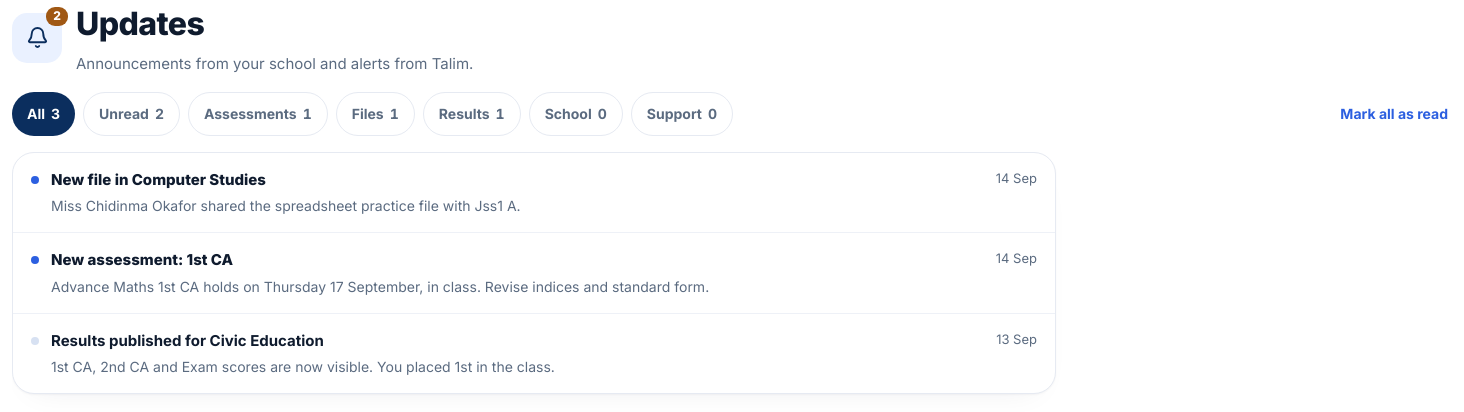
Test case: Updates screen › says when a filter has nothing
Check: the text "New file in Computer Studies" is shown, box x1=51 y1=168 x2=329 y2=188
What coordinates should you click on to do the following:
click the button "School 0"
I would click on:
 (576, 114)
Its box is x1=529 y1=92 x2=623 y2=136.
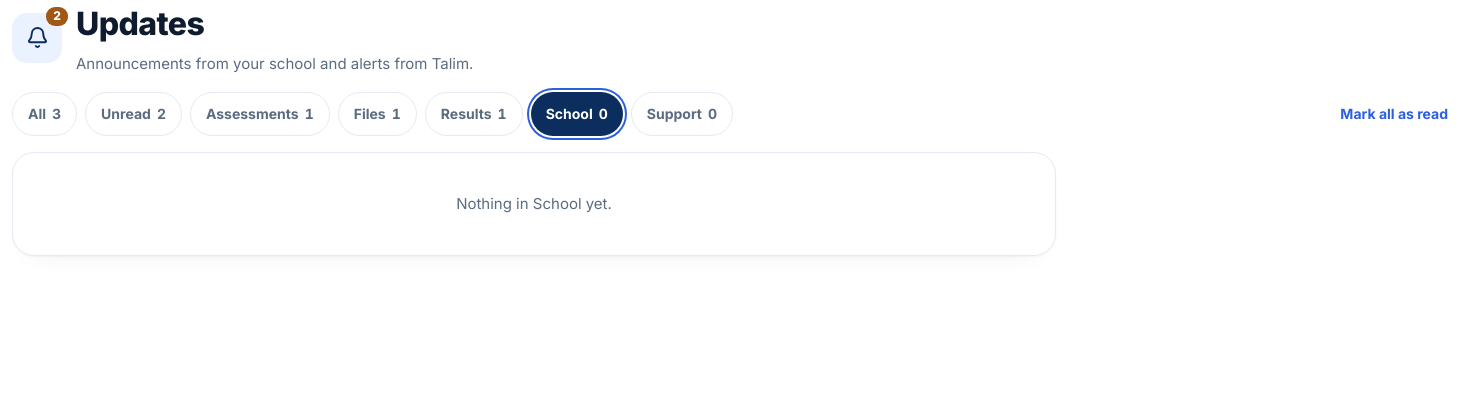
Check: the text "Nothing in School yet." is shown, box x1=456 y1=194 x2=612 y2=212
